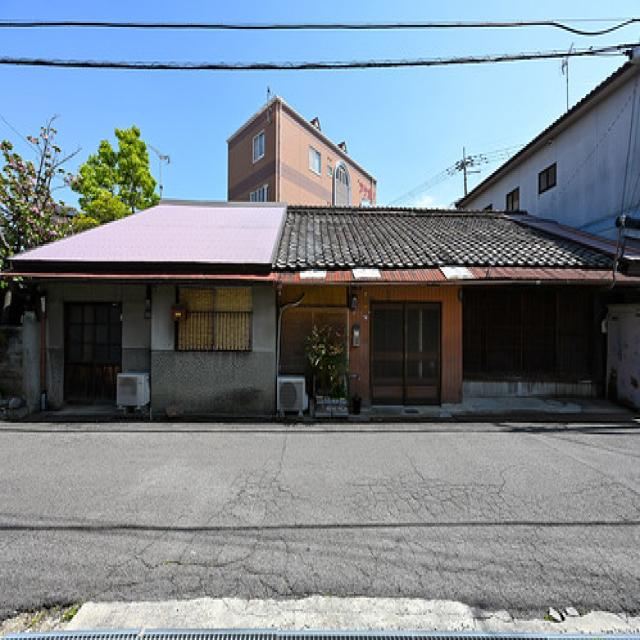building: (8, 89, 629, 424)
